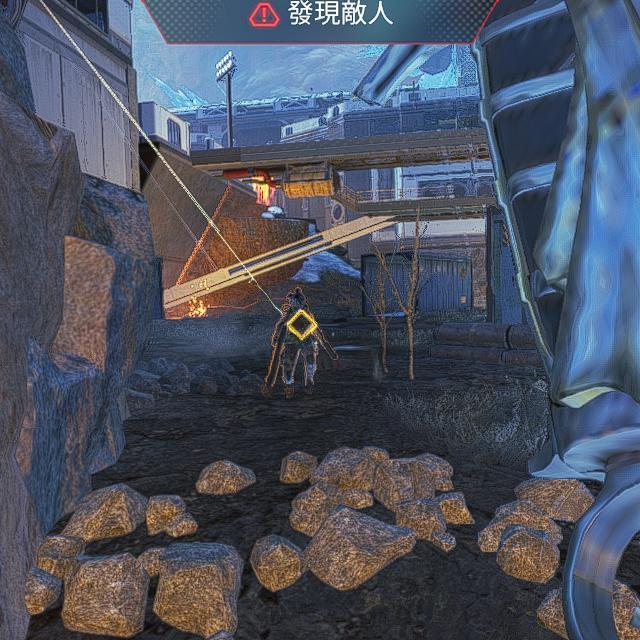avatar: (276, 286, 321, 403)
object: (284, 308, 320, 345)
